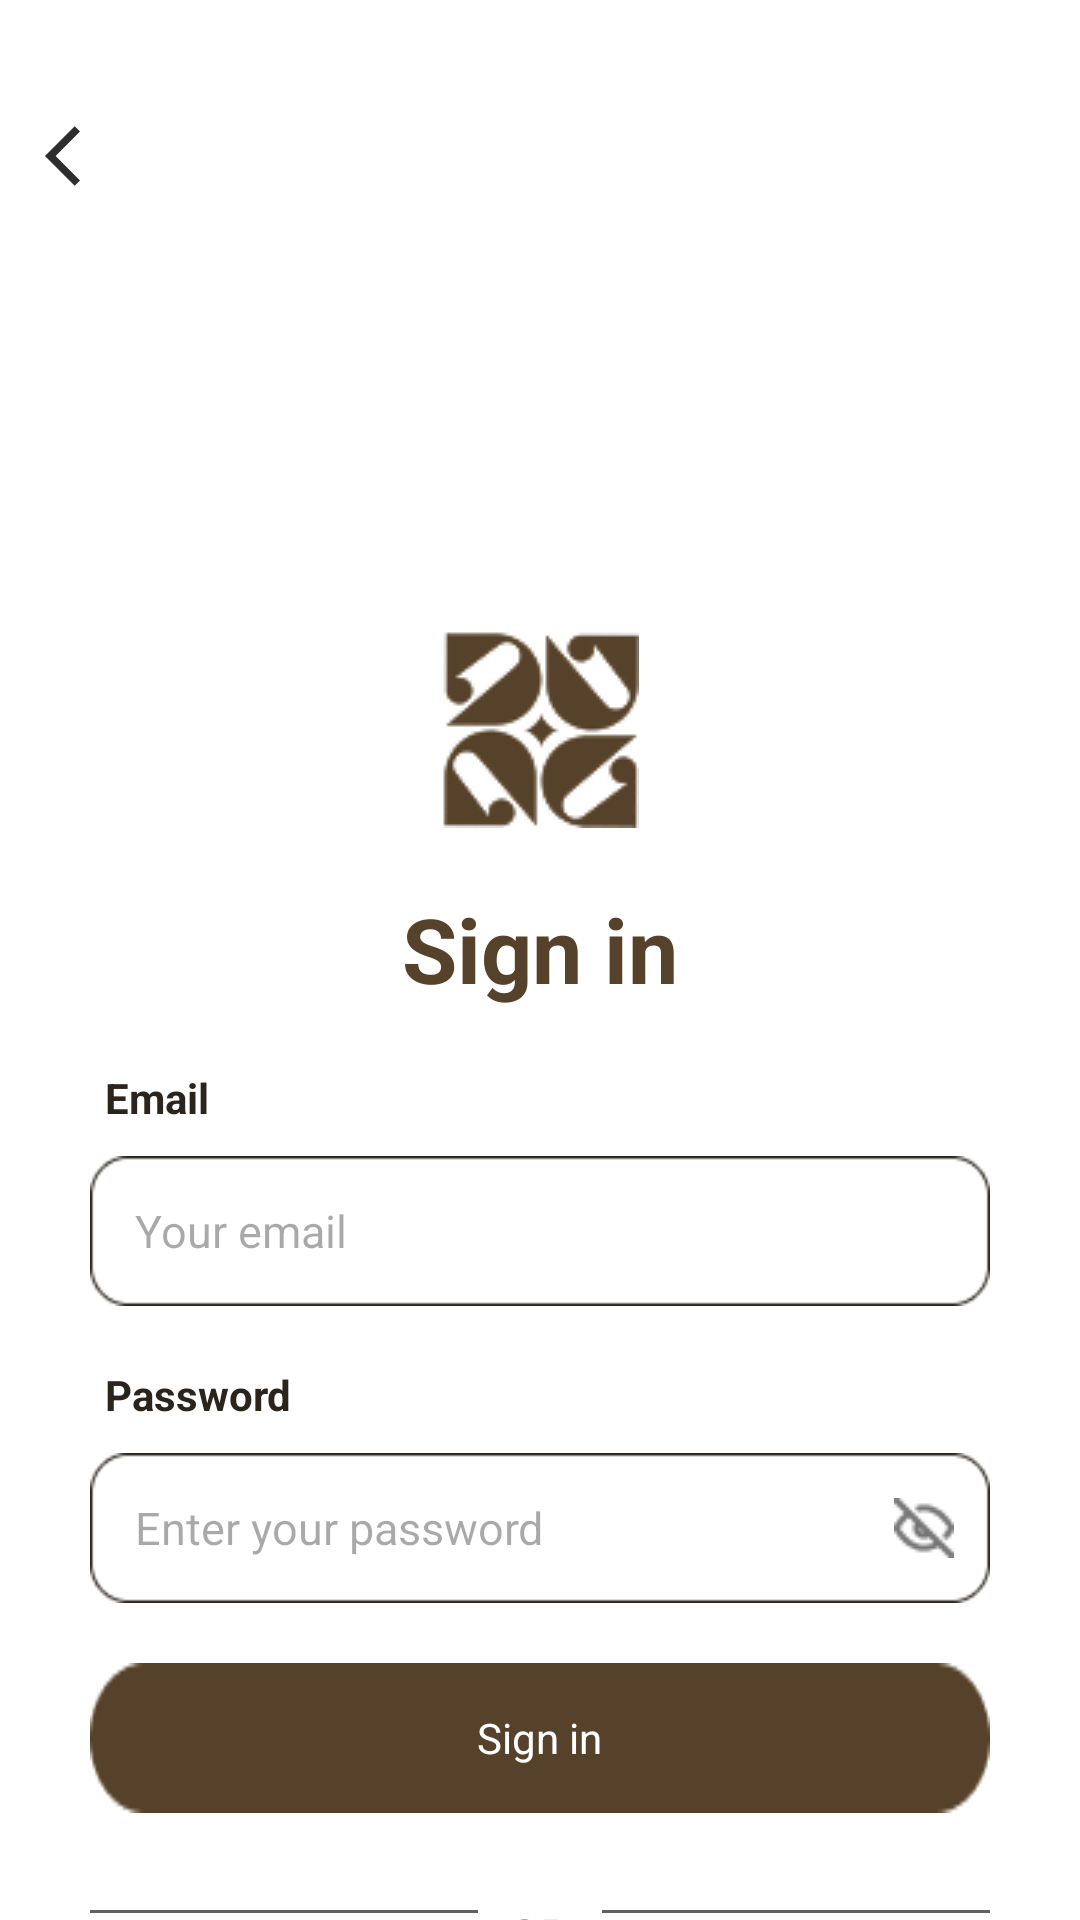

Icons on this 1080×1920 Android screen, each with its box as (x1, y1, x2, y2):
back arrow: (45, 126, 80, 186)
eyeoff: (894, 1498, 954, 1558)
